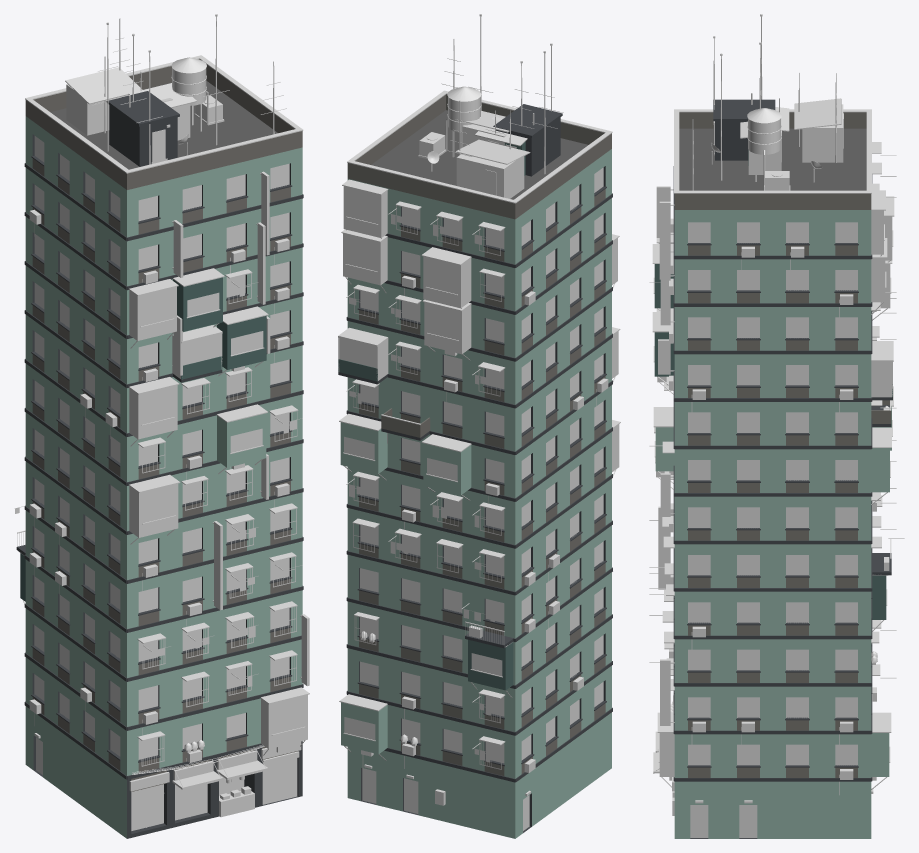
The model's file is LB_KS_Tenement_A.fbx.
3 views of the same model, side by side, from view 1: azimuth 30°, elevation 25°; view 2: azimuth 150°, elevation 25°; view 3: azimuth 270°, elevation 25° (orthographic). The views are drawn at different scales.
Parts seen in each view (by area): view 1: LB_KS_Tenement_A_LOD0; view 2: LB_KS_Tenement_A_LOD0; view 3: LB_KS_Tenement_A_LOD0.
Part boxes in pixels (x1=…): LB_KS_Tenement_A_LOD0: x1=14, y1=14, x2=309, y2=838; LB_KS_Tenement_A_LOD0: x1=338, y1=14, x2=620, y2=838; LB_KS_Tenement_A_LOD0: x1=649, y1=14, x2=904, y2=838.
Size of what is drawn, in the model's own units: 12.73 by 50.93 by 15.59.
